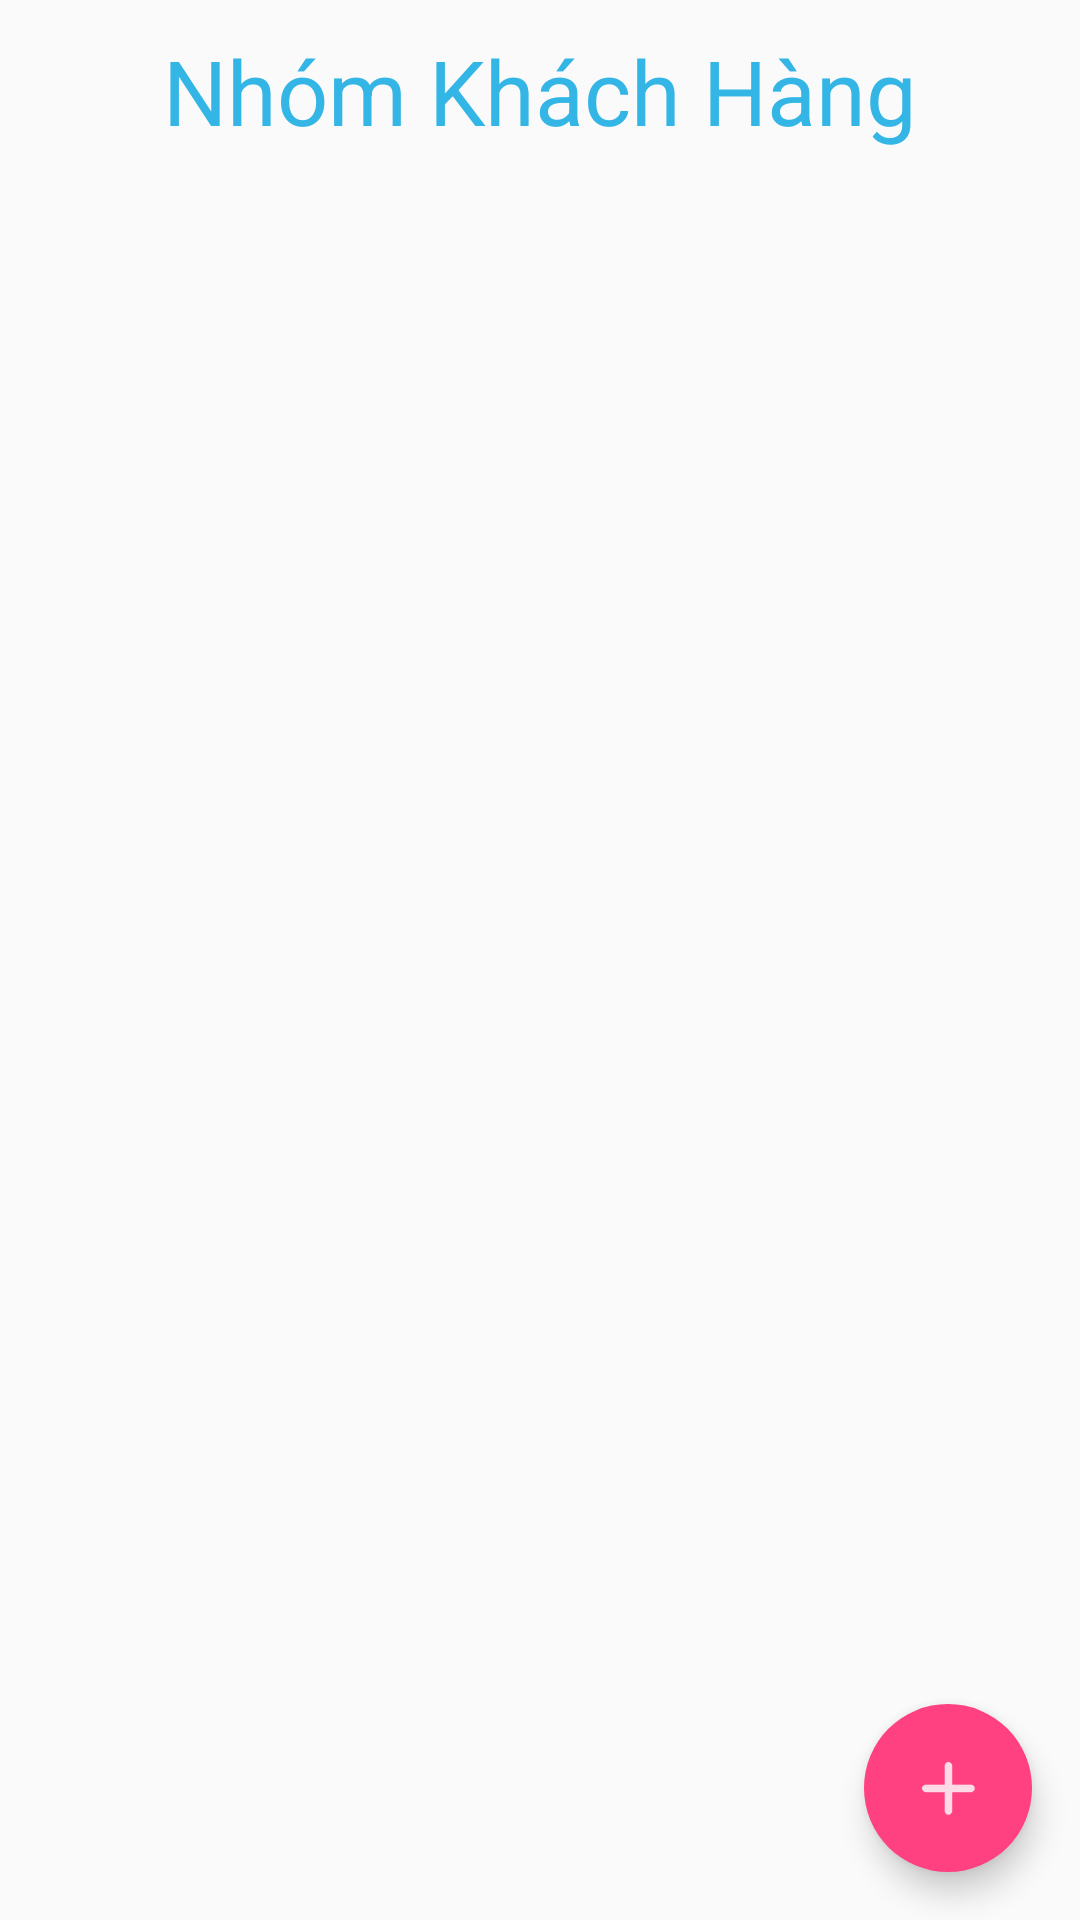

Named icons in this screenshot (1080px×1920px) and their bounding boxes, (x1, y1, x2, y2):
fab add custom: (864, 1704, 1032, 1872)
